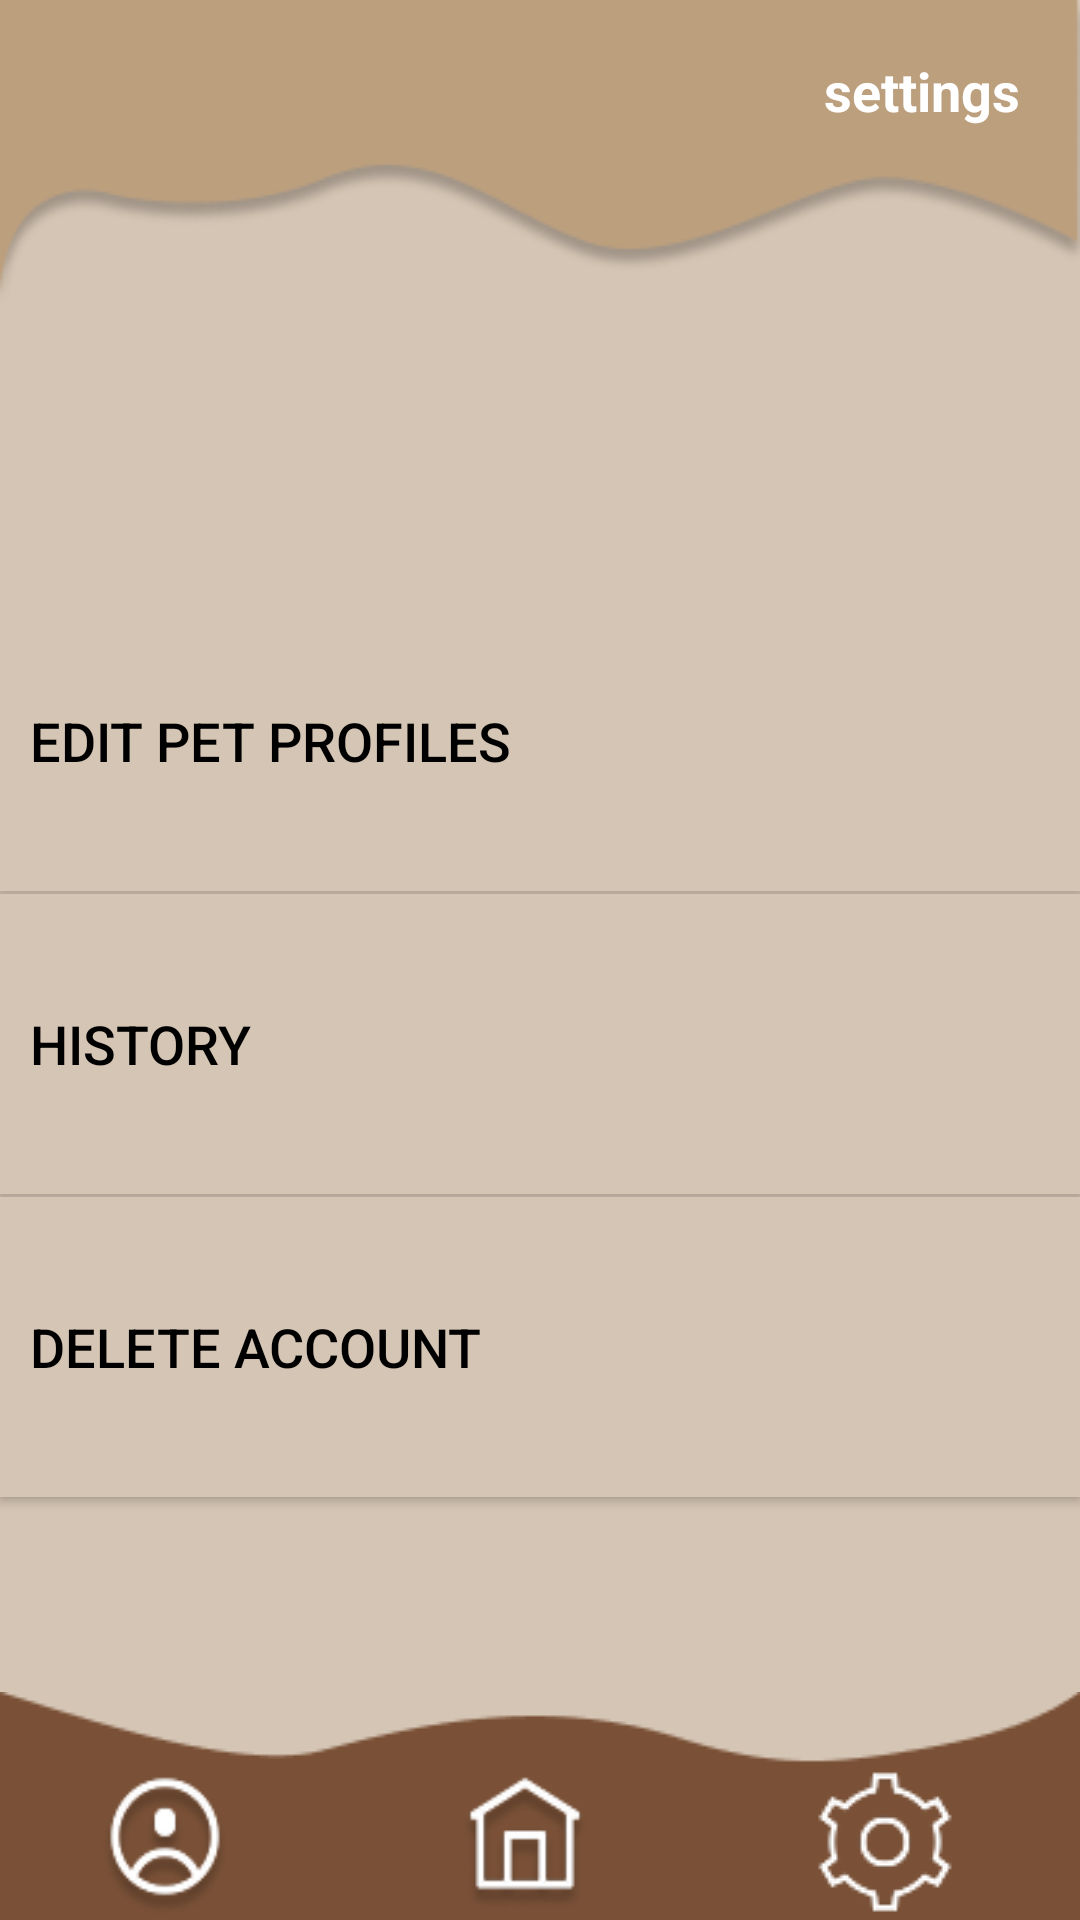

Locate icon controls on the screen. Image size 1080px×1920px, boxes as (x1, y1, x2, y2).
homebtn: (469, 1777, 581, 1890)
profilebtn: (110, 1777, 220, 1896)
settingbtn: (818, 1772, 952, 1912)
